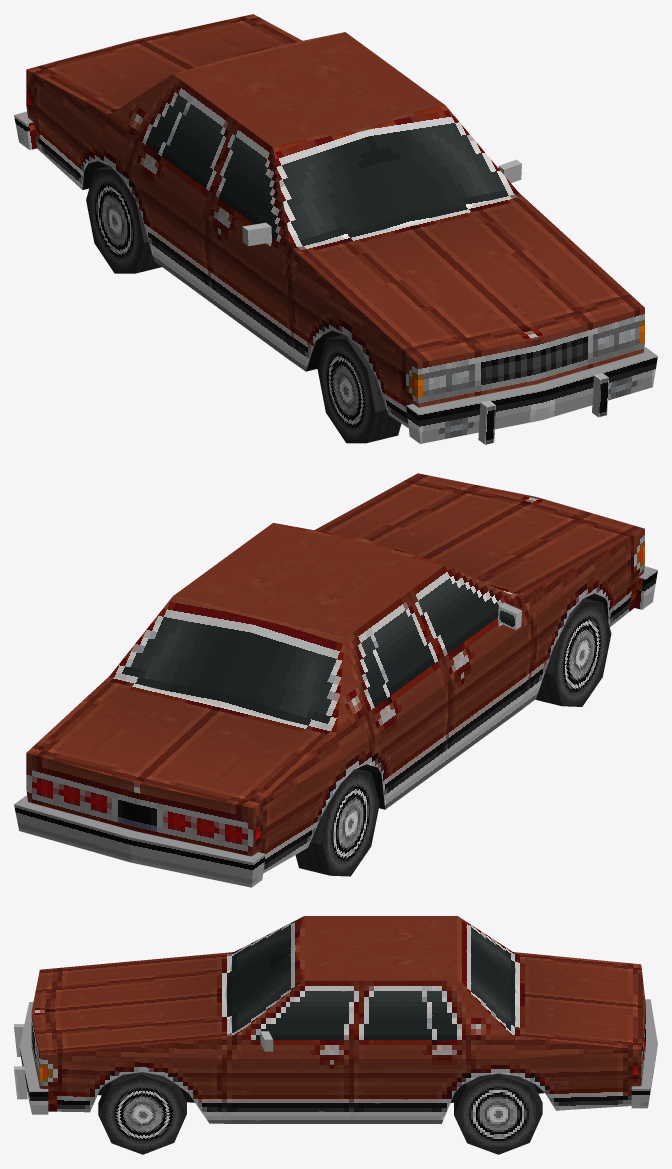
Rendered from car_sedan.glb.
3 renders of one model, top to bottom at view 1: azimuth 30°, elevation 25°; view 2: azimuth 150°, elevation 25°; view 3: azimuth 270°, elevation 25°, orthographic. The views are drawn at different scales.
Visible parts, largest first — view 1: Car5; view 2: Car5; view 3: Car5.
Part boxes in pixels (x1,y1,x2,y2): Car5: (14, 14, 657, 444); Car5: (14, 473, 657, 887); Car5: (14, 916, 657, 1154).
Bounding box in the file's own units: 2.78 × 2.05 × 7.37.
Materials: 1 (1 with a texture image).
